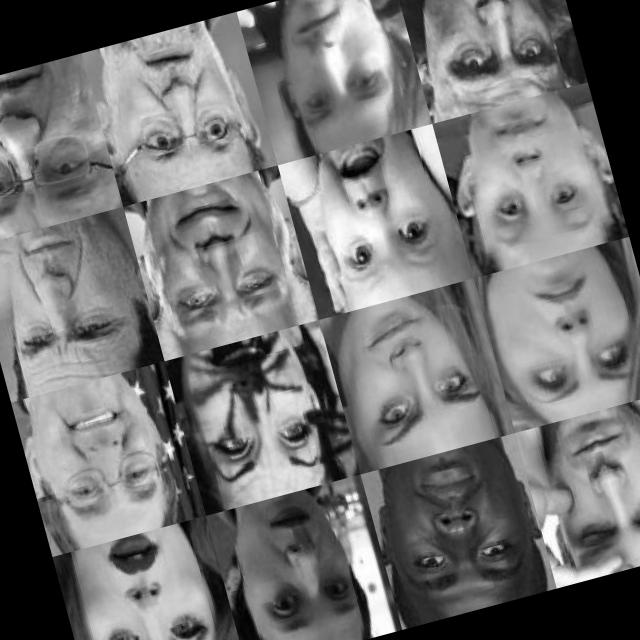angry: (375, 446, 541, 614), (493, 250, 640, 421), (0, 214, 143, 380)
fear: (183, 329, 337, 504), (304, 134, 456, 300), (108, 17, 255, 188), (72, 525, 224, 640)
happy: (336, 288, 504, 466), (25, 378, 180, 540)
neutral: (458, 95, 608, 262), (265, 0, 406, 139), (414, 0, 570, 107)
sad: (138, 174, 301, 343), (229, 491, 372, 640), (0, 55, 111, 236), (528, 405, 640, 576)
